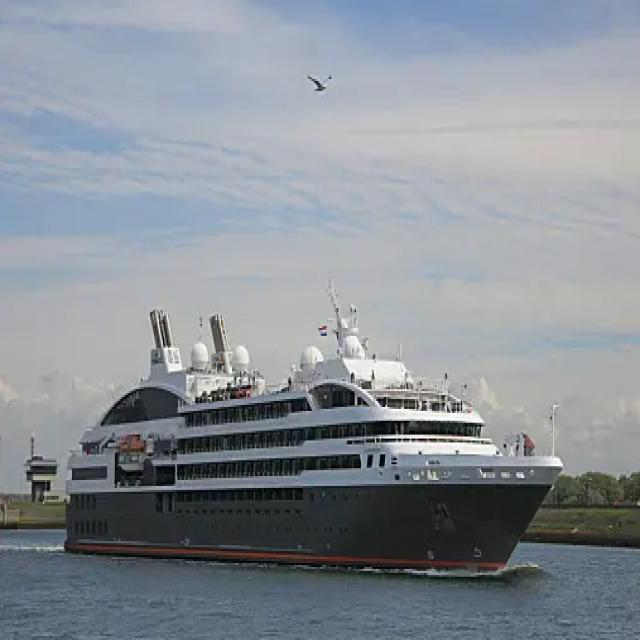passenger ship: (46, 288, 578, 599)
